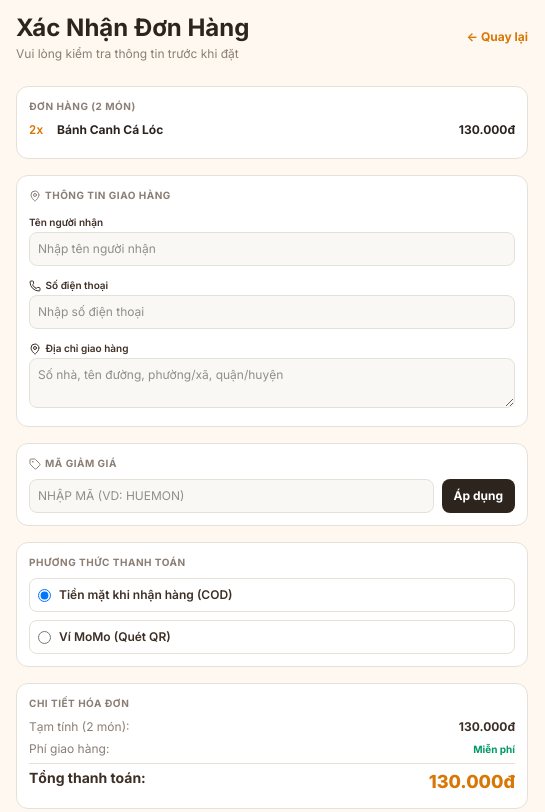
OrderConfirmation › validates phone number format
In the field with placeholder "Nhập số điện thoại": [272, 312] box [29, 295, 515, 329], type "123"
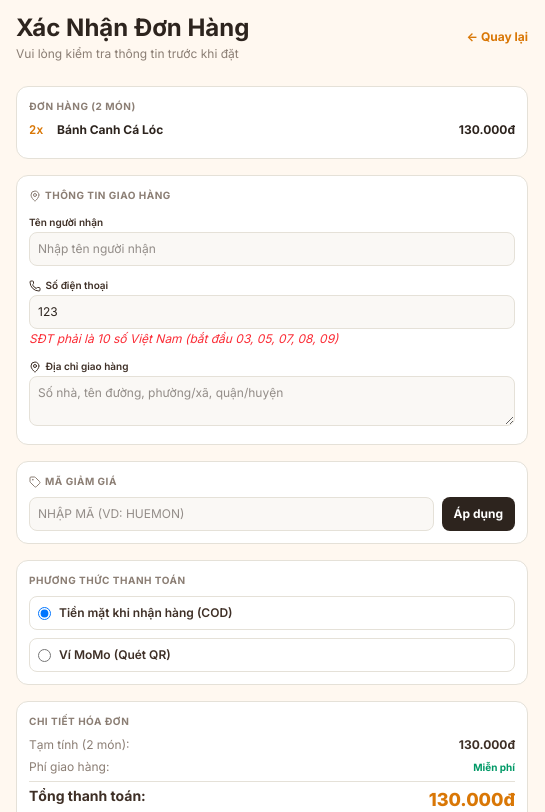
Expected: the text "SĐT phải là 10 số Việt Nam (bắt đầu 03, 05, 07, 08, 09)" is shown, [29, 331, 338, 346]
